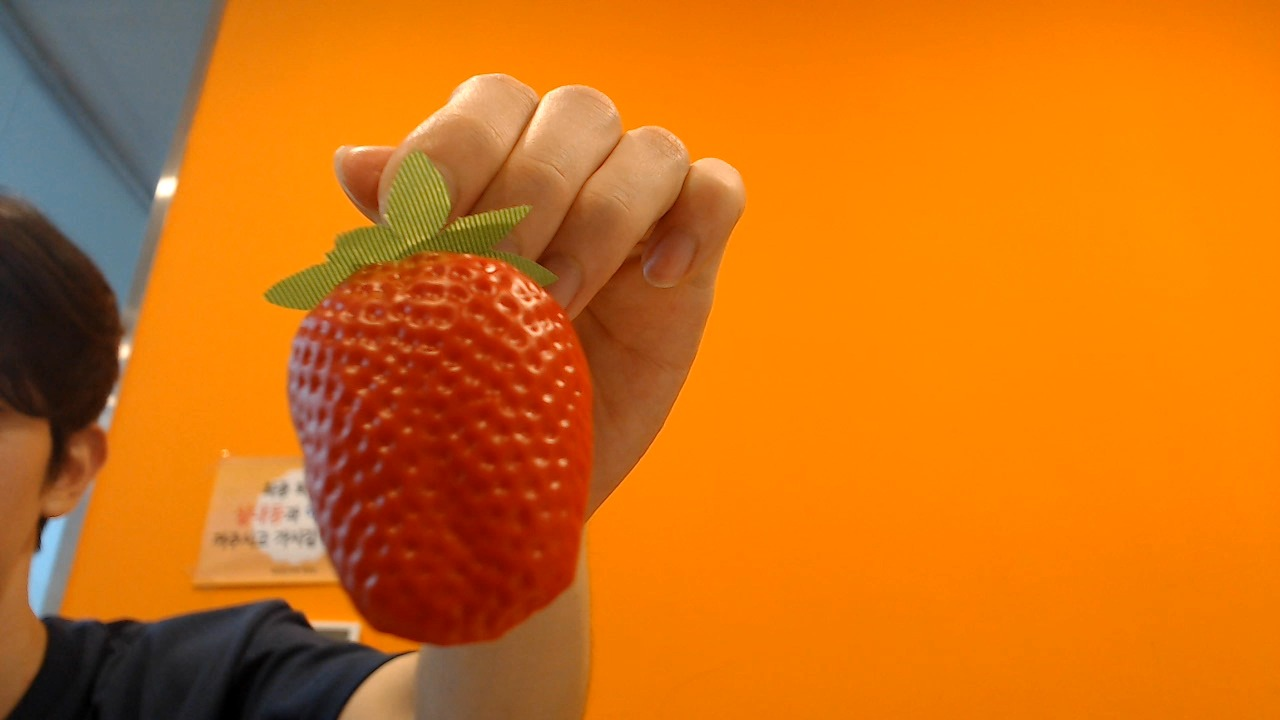strawberry: (288, 216, 593, 648)
